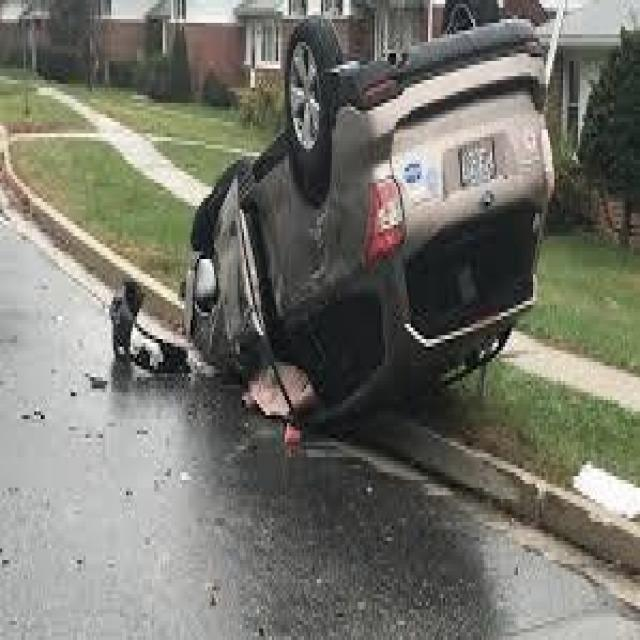severe: (176, 4, 560, 442)
